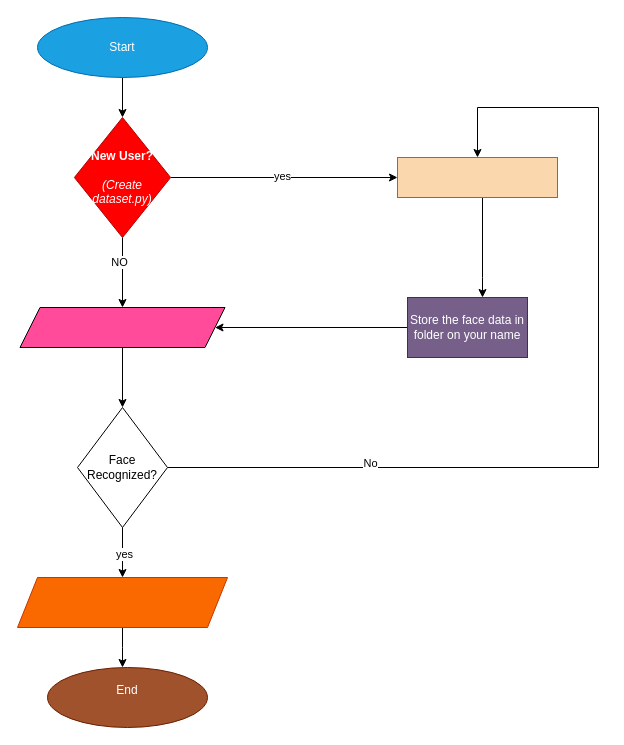
Some shapes in this 624 by 745 pixel diagram are drawn without their labels. The centre of each missing label's shape, as x and y in pixels:
Give your photograph: the point at 477,177
Recognize the face (face_train.py, face_recog.py): the point at 122,327
Store in CSV file with Registration Number & Time of Entry: the point at 122,602
